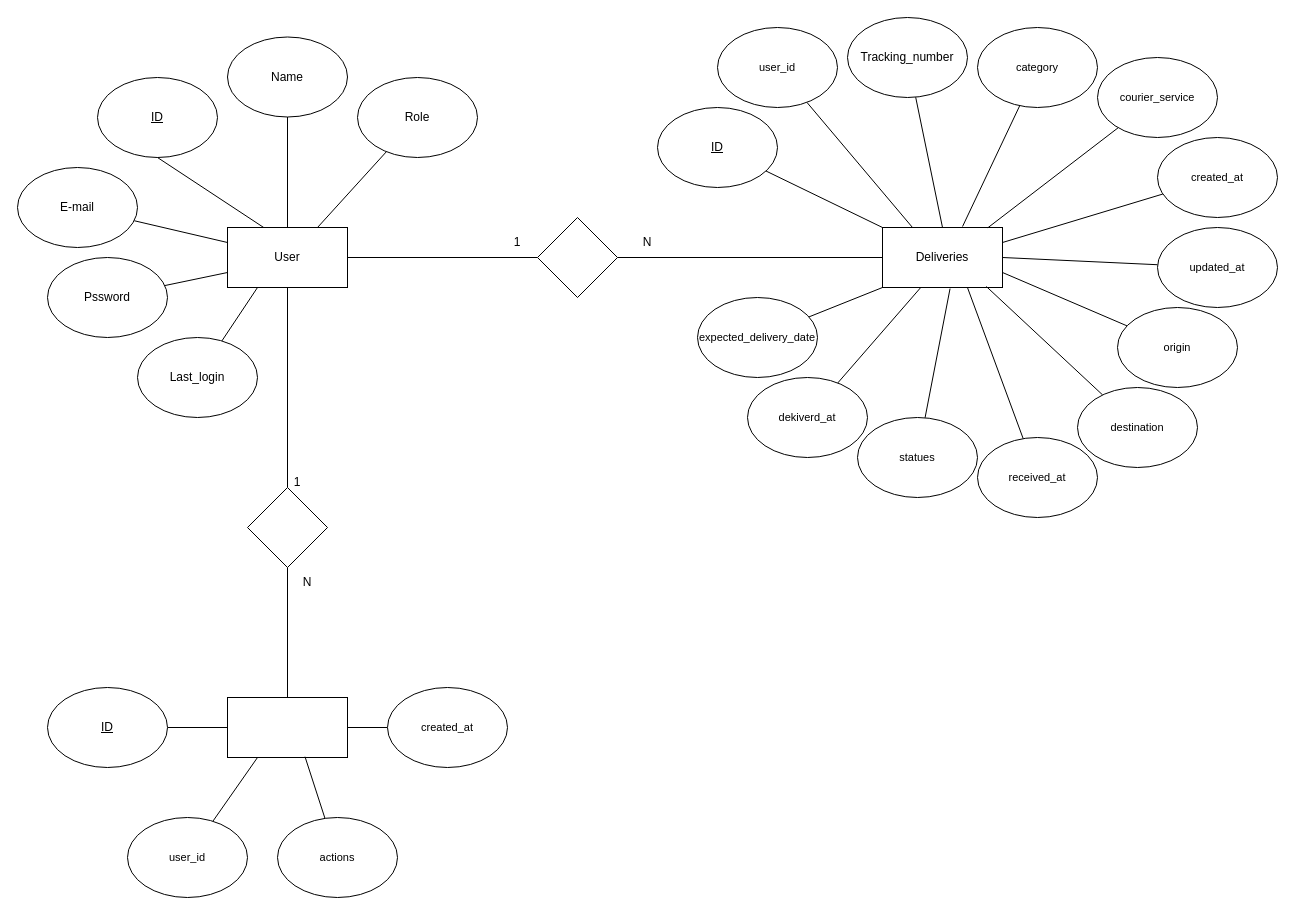
Image size: 1295x915. Some labels were removed from this diagram. The shapes that lost their labels are listed below. From the top down, each one's box as (x1, y1, x2, y2) in pixels, then its label:
(536, 216, 618, 298): Has
(246, 486, 328, 568): logs
(226, 696, 348, 758): User_activity_logs
